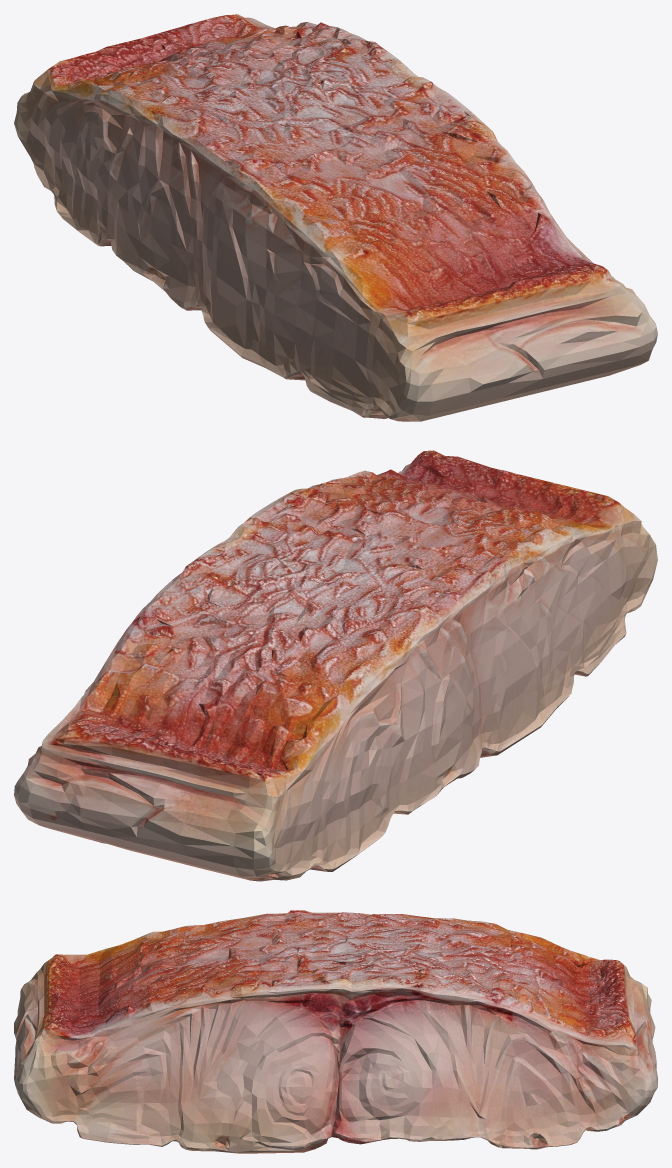
The model's file is TAI.obj.
3 views of the same model, one above another, from view 1: azimuth 30°, elevation 25°; view 2: azimuth 150°, elevation 25°; view 3: azimuth 270°, elevation 25° (orthographic). The views are drawn at different scales.
Parts seen in each view (by area): view 1: tripo_node_ecfdb57e-a5da-42cf-80de-bc302e6211af; view 2: tripo_node_ecfdb57e-a5da-42cf-80de-bc302e6211af; view 3: tripo_node_ecfdb57e-a5da-42cf-80de-bc302e6211af.
Boxes of the visible parts, <box> form: tripo_node_ecfdb57e-a5da-42cf-80de-bc302e6211af: <box>14,14,657,421</box>; tripo_node_ecfdb57e-a5da-42cf-80de-bc302e6211af: <box>14,450,657,881</box>; tripo_node_ecfdb57e-a5da-42cf-80de-bc302e6211af: <box>14,910,657,1153</box>.
Size of the model in its own units: 0.4614 by 0.2604 by 0.9746.
Materials: 1 (1 with a texture image).
